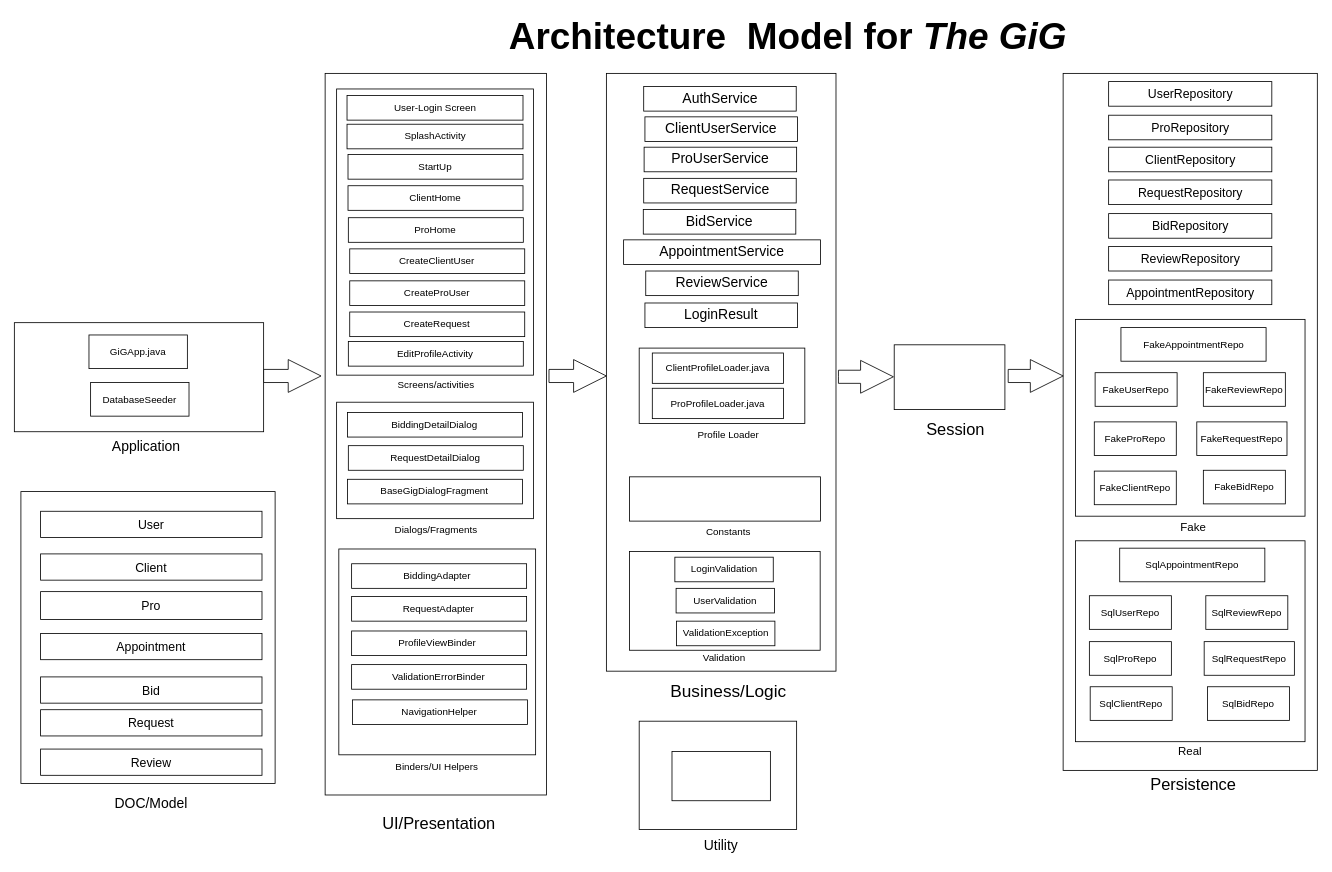
Some shapes in this 1332 by 872 pixel diagram are drawn without their labels. Each missing label, with the box of its shape:
SessionManager: (893, 344, 1005, 410)
Strings: (671, 751, 770, 801)
ValidationMessages.java: (629, 476, 820, 521)
